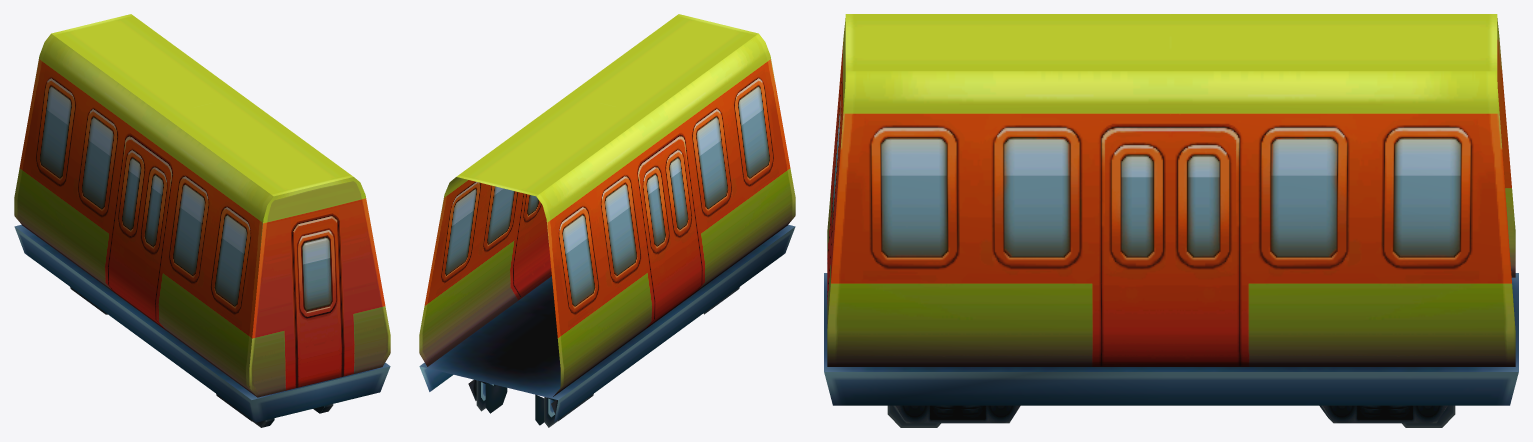
Rendered from train.fbx.
3 views of the same model, side by side, from view 1: azimuth 30°, elevation 25°; view 2: azimuth 150°, elevation 25°; view 3: azimuth 270°, elevation 25° (orthographic). The views are drawn at different scales.
Parts seen in each view (by area): view 1: default.008; view 2: default.008; view 3: default.008.
Part boxes in pixels (bbox=[...]): default.008: bbox=[14, 14, 390, 427]; default.008: bbox=[419, 14, 795, 427]; default.008: bbox=[824, 14, 1518, 427].
Size of the model in its own units: 418 by 696 by 1213.
